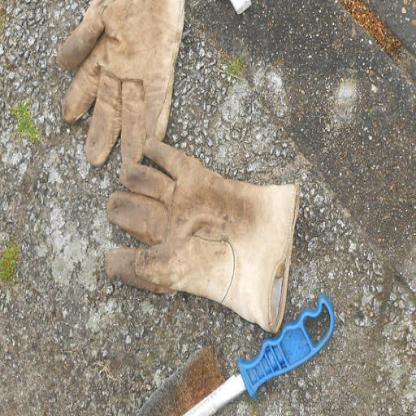knife: (134, 298, 340, 415)
